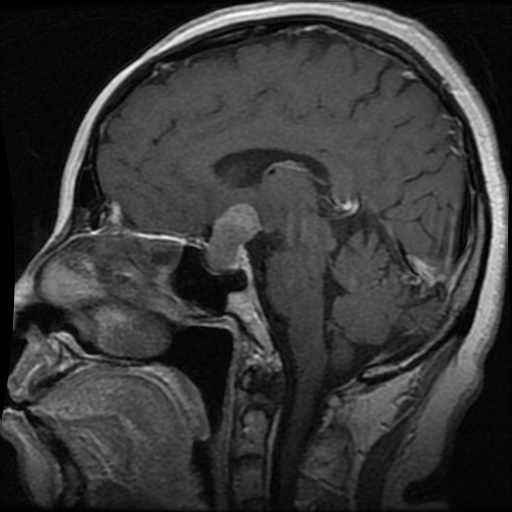pituitary: (207, 204, 261, 271)
